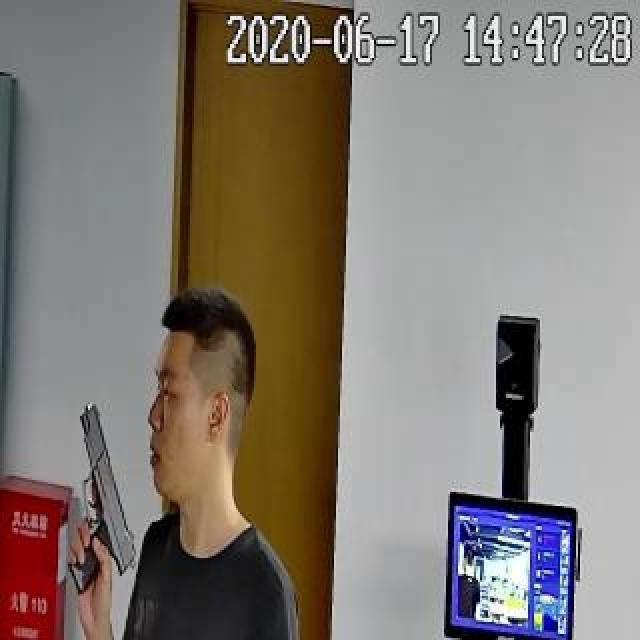Guns: (33, 381, 190, 618)
